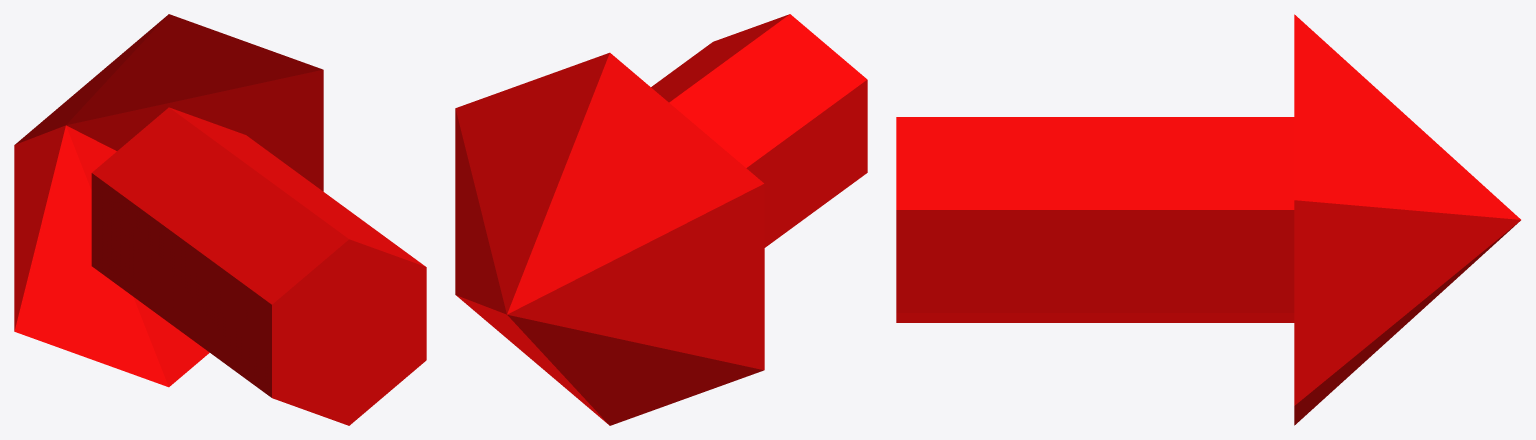
File: red_arrow.obj
The picture shows the model from 3 angles, left to right: view 1: azimuth 30°, elevation 25°; view 2: azimuth 150°, elevation 25°; view 3: azimuth 270°, elevation 25°; orthographic projection. The views are drawn at different scales.
Bounding box in the file's own units: 1.73 × 2 × 2.75.
